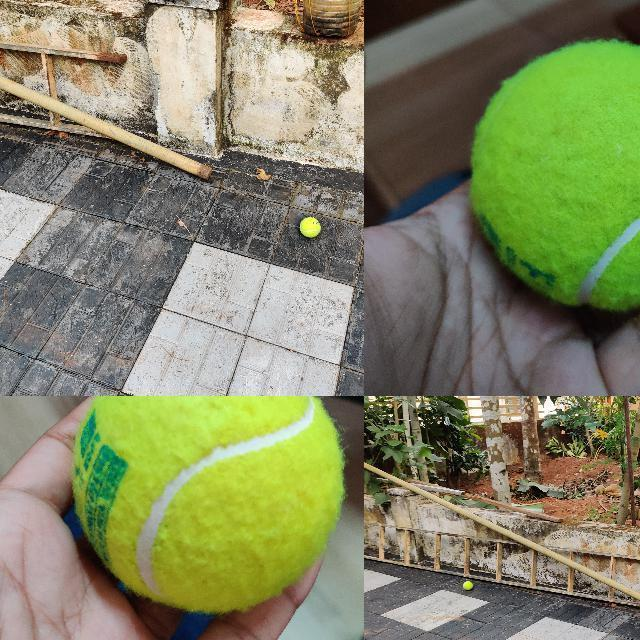tennis-ball: (73, 396, 344, 611), (469, 42, 639, 308), (299, 217, 321, 238), (462, 581, 472, 590)
